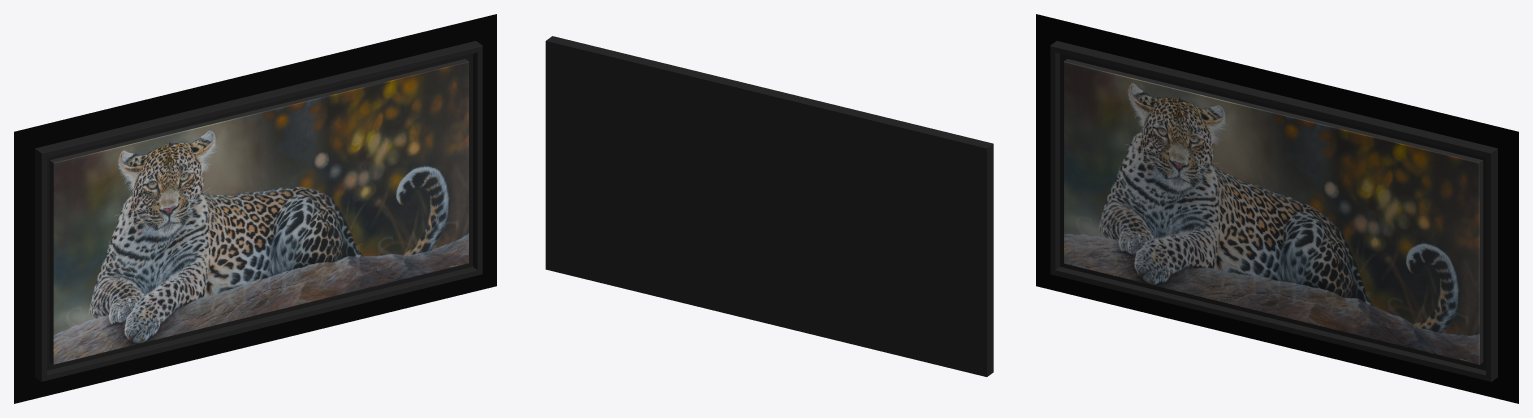
The model's file is tableau-leopard-grand-52db621e.glb.
3 renders of one model, left to right at view 1: azimuth 30°, elevation 25°; view 2: azimuth 150°, elevation 25°; view 3: azimuth 330°, elevation 25°, orthographic.
Parts seen in each view (by area): view 1: Painting; view 2: Painting; view 3: Painting.
Part boxes in pixels (x1=…): Painting: x1=14, y1=14, x2=496, y2=403; Painting: x1=545, y1=36, x2=993, y2=376; Painting: x1=1036, y1=14, x2=1518, y2=403.
Size of the model in its own units: 1.63 by 0.876 by 0.04.
5 materials, 3 textured.
